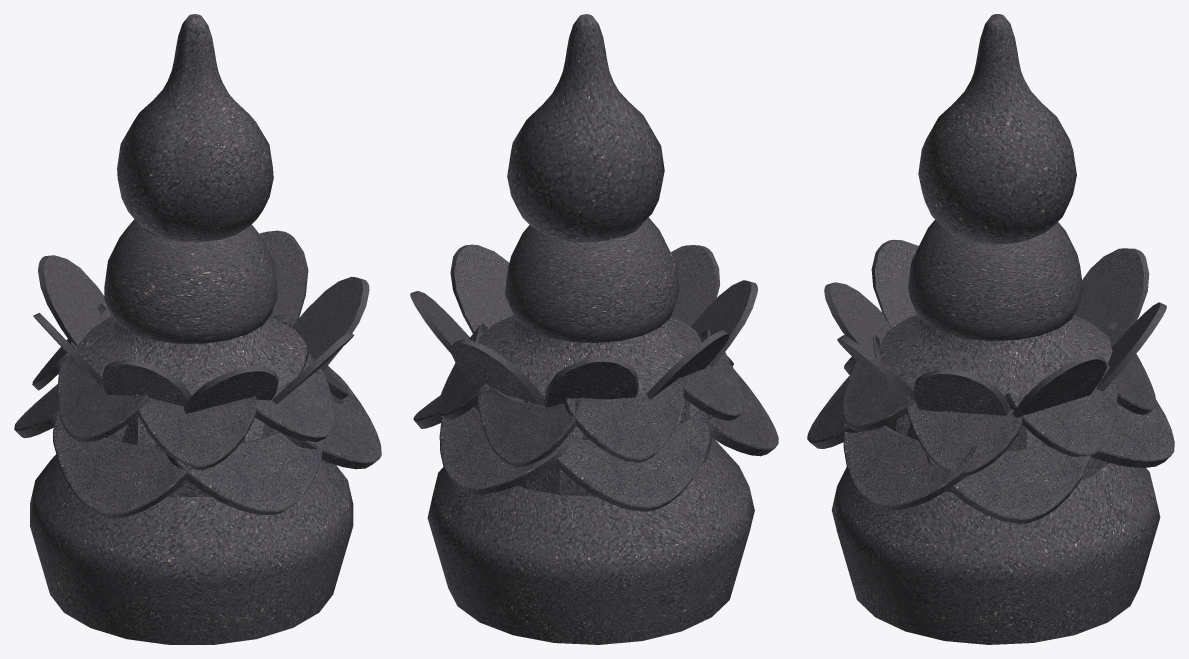
Rendered from SM_Roof_49.fbx.
3 views of the same model, side by side, from view 1: azimuth 30°, elevation 25°; view 2: azimuth 150°, elevation 25°; view 3: azimuth 270°, elevation 25° (orthographic).
Visible parts, largest first — view 1: SM_Roof_49; view 2: SM_Roof_49; view 3: SM_Roof_49.
Boxes of the visible parts, box(x1,y1,x2,y2) form: SM_Roof_49: box(14, 14, 381, 644); SM_Roof_49: box(410, 14, 778, 644); SM_Roof_49: box(807, 14, 1174, 644).
Size of the model in its own units: 120 by 124 by 213.
1 material, 1 textured.
